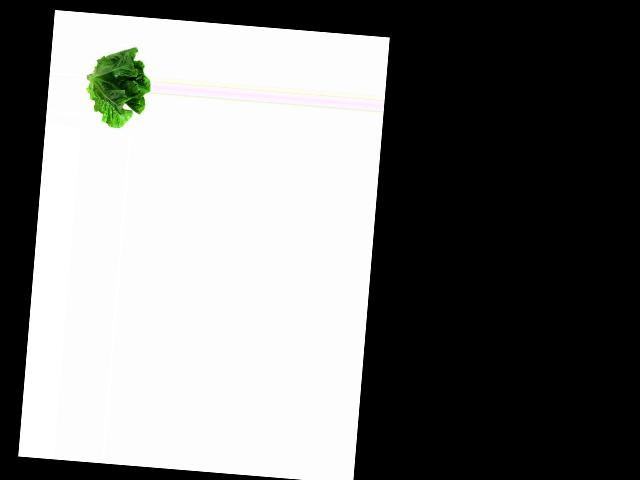lettuce: (86, 42, 153, 129)
